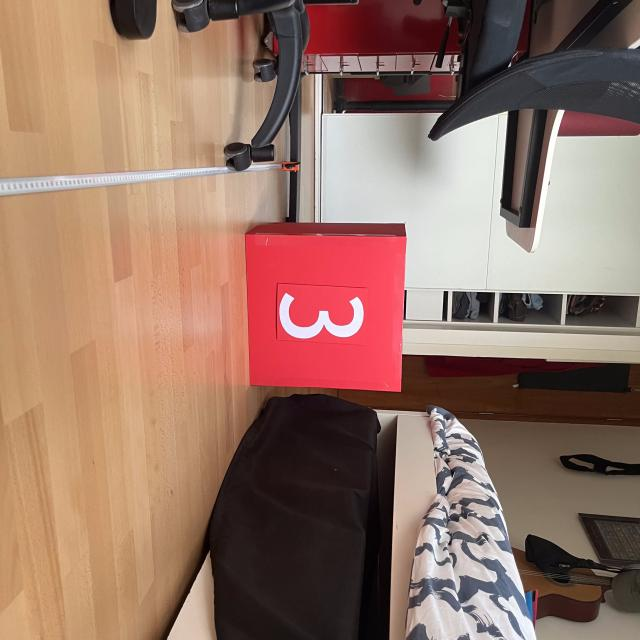box: (241, 218, 409, 393)
